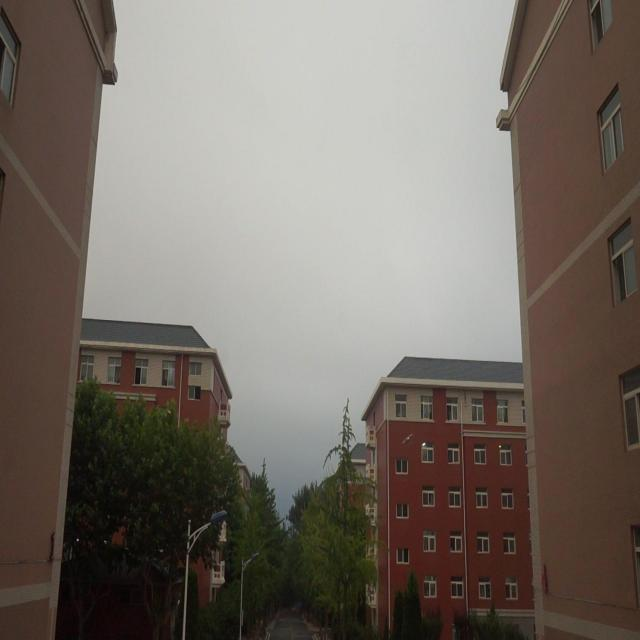UAV: (402, 433, 413, 446)
